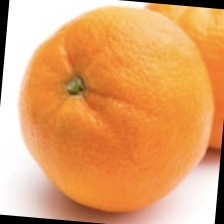orange: (36, 18, 194, 181)
